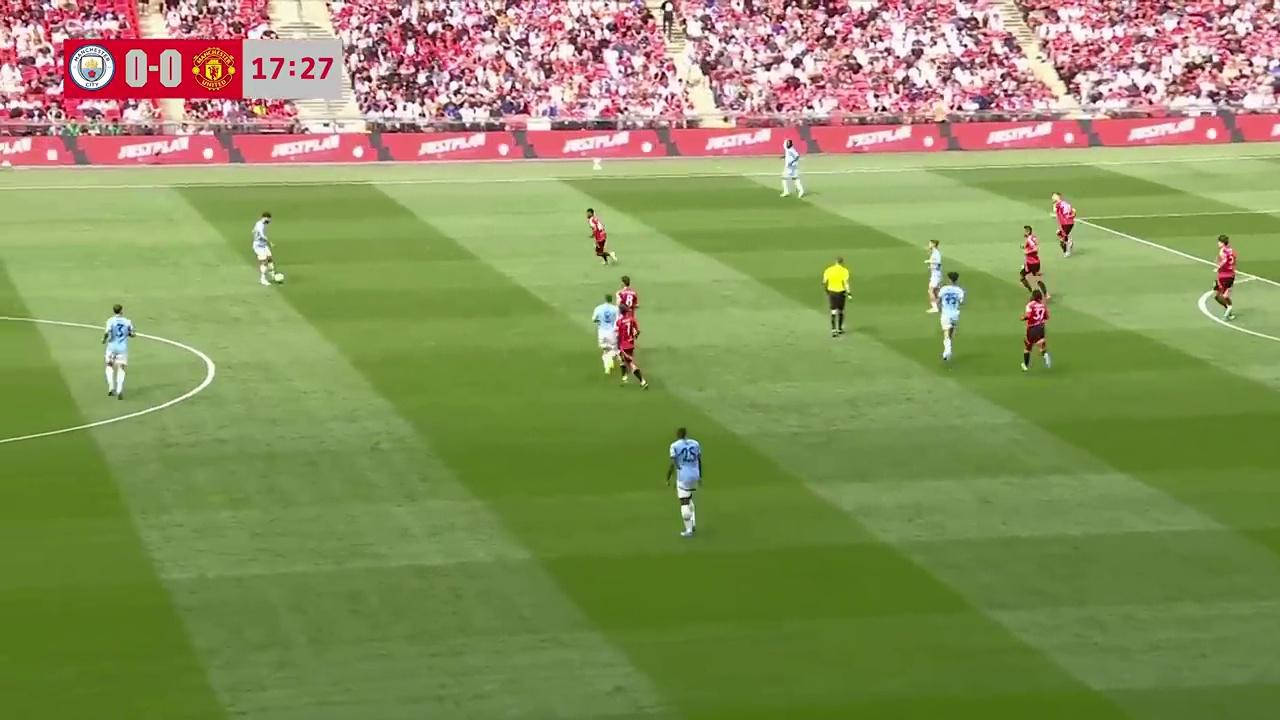ball: (274, 272, 286, 286)
player: (666, 427, 702, 538), (101, 305, 135, 399), (1019, 288, 1053, 371), (615, 309, 648, 389), (937, 272, 966, 363), (591, 294, 621, 376), (1211, 235, 1237, 318), (252, 212, 279, 285), (1018, 225, 1045, 294), (586, 207, 615, 266), (1051, 192, 1074, 257), (615, 275, 640, 333), (924, 240, 944, 311), (779, 143, 805, 197)
referee: (822, 256, 852, 338)
